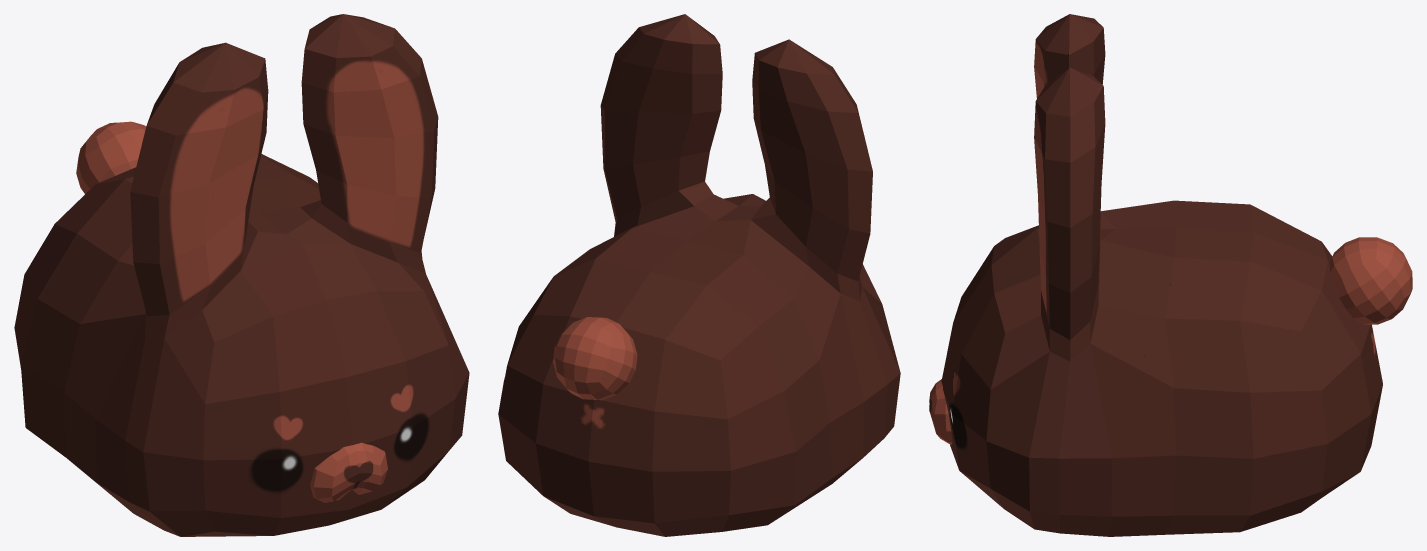
Rendered from Rabbit_Chocolate.fbx.
3 views of the same model, side by side, from view 1: azimuth 30°, elevation 25°; view 2: azimuth 150°, elevation 25°; view 3: azimuth 270°, elevation 25° (orthographic). The views are drawn at different scales.
Parts seen in each view (by area): view 1: Roundcube.004, Roundcube.006, Roundcube.015; view 2: Roundcube.004, Roundcube.015; view 3: Roundcube.004, Roundcube.015, Roundcube.006.
Part boxes in pixels (left/top/right/bottom): Roundcube.004: left=14, top=14, right=469, bottom=536; Roundcube.006: left=310, top=442, right=387, bottom=502; Roundcube.015: left=76, top=121, right=146, bottom=193; Roundcube.004: left=498, top=14, right=900, bottom=536; Roundcube.015: left=553, top=317, right=637, bottom=400; Roundcube.004: left=941, top=14, right=1382, bottom=536; Roundcube.015: left=1329, top=237, right=1412, bottom=324; Roundcube.006: left=929, top=379, right=952, bottom=444.
Size of the model in its own units: 197 by 272 by 267.
1 material, 1 textured.
